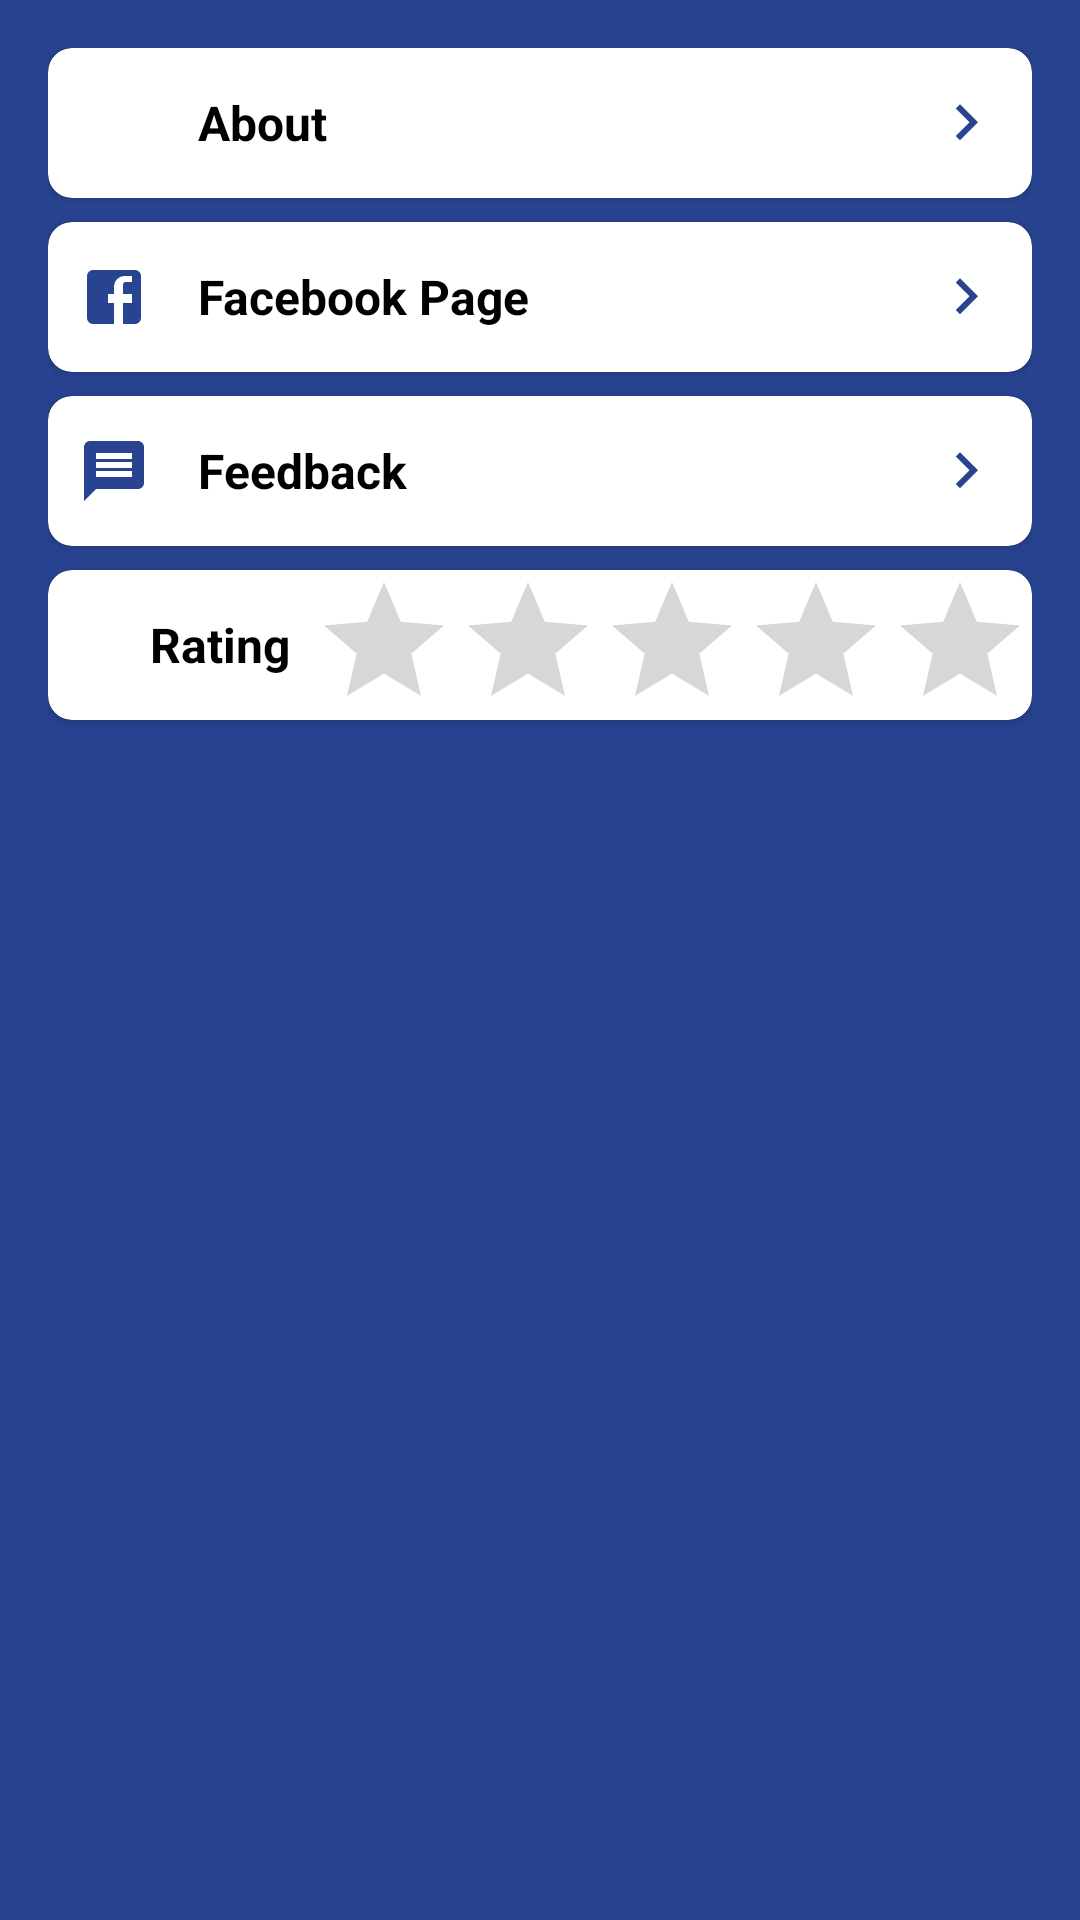

Named icons in this screenshot (1080px×1920px) and their bounding boxes, (x1=x1, y1=y1, x2=x2, y2=y2):
arrow right: (x1=956, y1=104, x2=978, y2=140), (x1=956, y1=278, x2=978, y2=314), (x1=956, y1=452, x2=978, y2=488)
